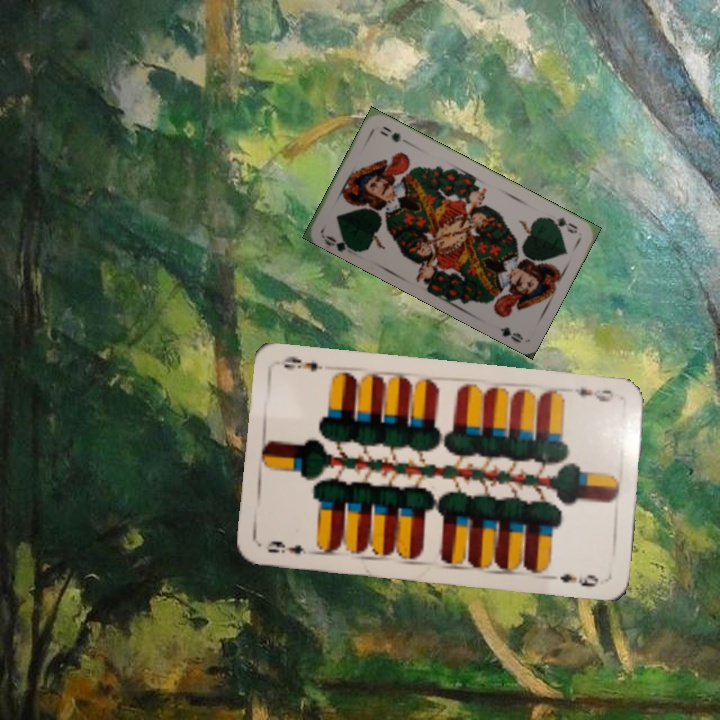E9: (570, 384, 616, 405), (261, 537, 309, 557)
GO: (319, 230, 358, 254), (542, 213, 580, 236)
